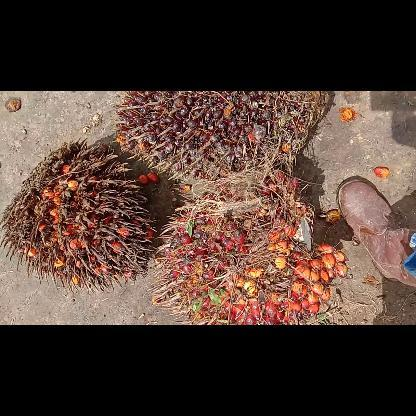Kurang masak: (114, 91, 332, 183)
TBS masak: (159, 170, 349, 324)
Terlalu masak: (1, 141, 156, 287)
